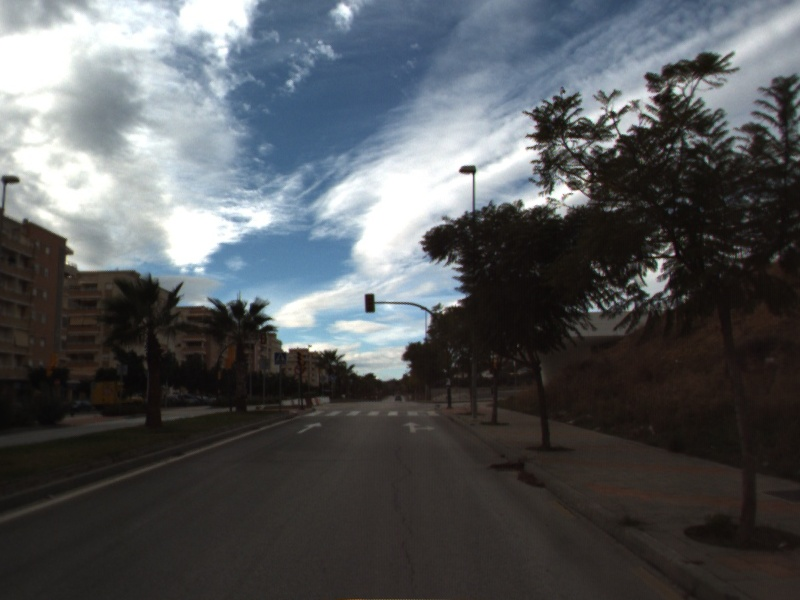STRAIGHT: (295, 420, 324, 435)
STRAIGHT_RIGHT: (400, 419, 437, 435)
